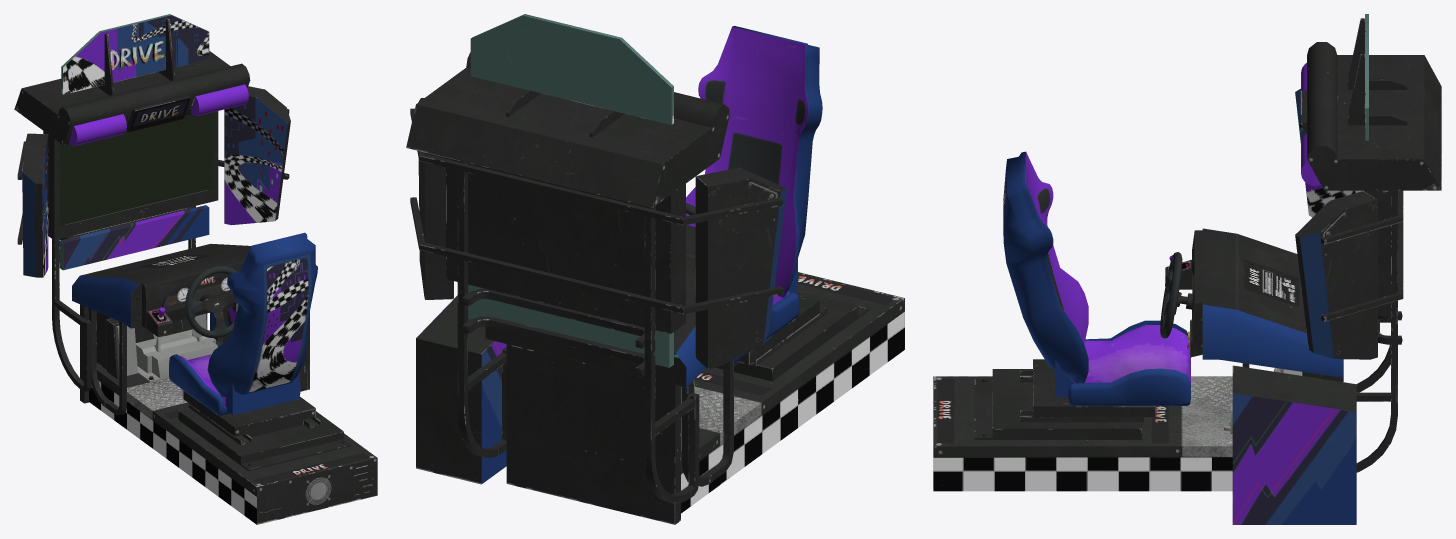
The model's file is arcadecase9.fbx.
The picture shows the model from 3 angles, left to right: view 1: azimuth 30°, elevation 25°; view 2: azimuth 150°, elevation 25°; view 3: azimuth 270°, elevation 25°; orthographic projection. The views are drawn at different scales.
Parts seen in each view (by area): view 1: MOD_ArcadeCabinet_Case_9.001; view 2: MOD_ArcadeCabinet_Case_9.001; view 3: MOD_ArcadeCabinet_Case_9.001.
Part boxes in pixels (x1,y1,x2,y2): MOD_ArcadeCabinet_Case_9.001: (14, 14, 377, 524); MOD_ArcadeCabinet_Case_9.001: (406, 14, 904, 524); MOD_ArcadeCabinet_Case_9.001: (933, 14, 1441, 524).
Size of the model in its own units: 17035 by 21220 by 23157.
